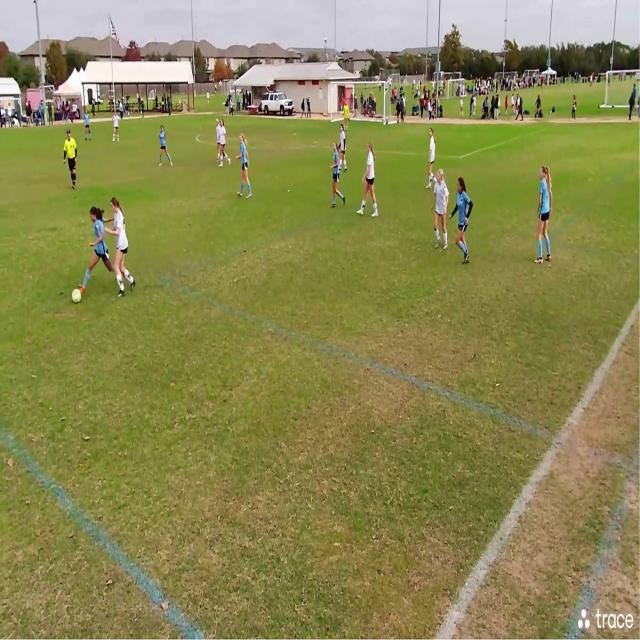ball: (72, 287, 80, 305)
team1: (77, 204, 119, 305), (538, 163, 557, 261), (453, 180, 473, 266), (330, 141, 347, 208), (239, 132, 254, 198), (158, 124, 173, 168), (84, 112, 92, 143)
team2: (111, 196, 138, 296), (433, 169, 452, 251), (362, 140, 381, 218), (217, 118, 232, 166), (428, 127, 440, 186), (339, 122, 350, 172), (114, 111, 122, 143)
